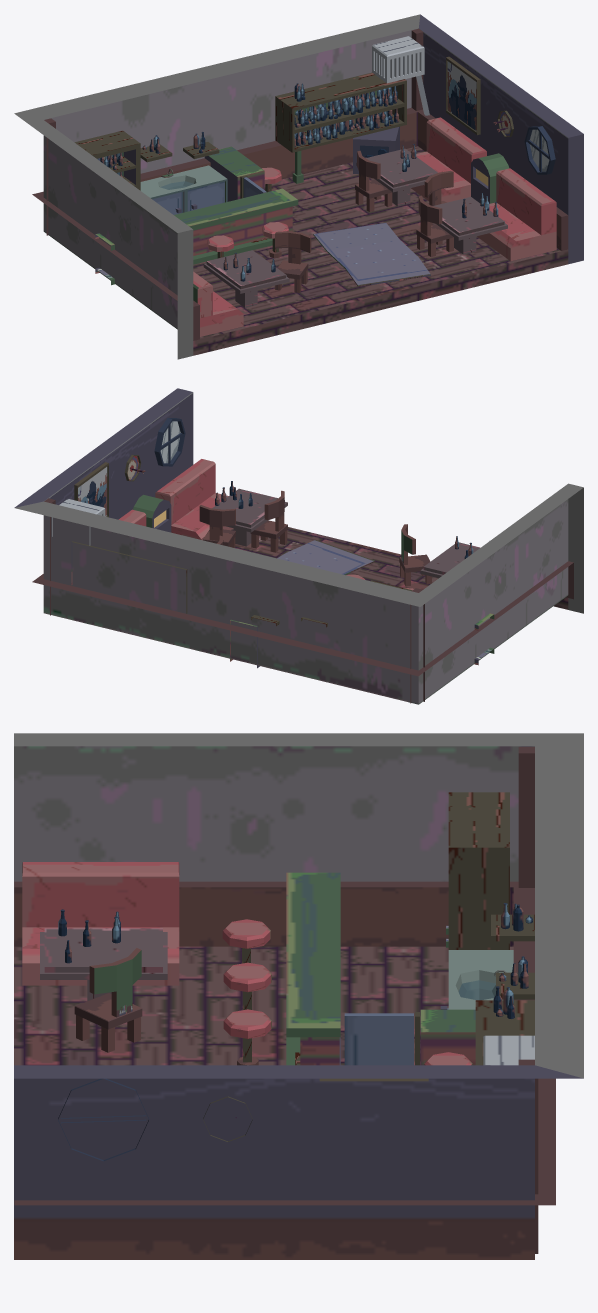
Rendered from Bar da Limey.v2..1118.fbx.
The picture shows the model from 3 angles, top to bottom: view 1: azimuth 30°, elevation 25°; view 2: azimuth 150°, elevation 25°; view 3: azimuth 270°, elevation 25°; orthographic projection. The views are drawn at different scales.
Parts seen in each view (by area): view 1: Chao_Paredes, Beiradas, Estante1, Balcao, Garrafas, Sofa1.001, Tapete, Sofa1.002, Pia, Mesa1, Ar_Condicionado, Mesa1.001 (+13 smaller); view 2: Chao_Paredes, Beiradas, Sofa1.001, Tapete, Mesa1.001, Cadeira1.001, Janela, Quadro, Cadeira1.003, Cadeira1, Junkebox, Mesa1 (+2 smaller); view 3: Chao_Paredes, Beiradas, Sofa1, Balcao, Estante2, Mesa1, Cadeira1, Balcao.002, Pia, Balcao.001, Garrafas, Estante1 (+5 smaller).
Boxes of the visible parts, x1,y1,x2,y2 form: Chao_Paredes: (14,14,583,359); Beiradas: (32,28,568,340); Estante1: (275,72,406,183); Balcao: (95,188,298,285); Garrafas: (97,83,498,281); Sofa1.001: (477,168,556,261); Tapete: (313,223,430,286); Sofa1.002: (411,117,486,202); Pia: (140,165,227,214); Mesa1: (203,250,289,307); Ar_Condicionado: (372,36,429,115); Mesa1.001: (433,197,507,254); Chao_Paredes: (14,388,583,704); Beiradas: (32,498,573,703); Sofa1.001: (155,459,233,540); Tapete: (277,539,374,574); Mesa1.001: (212,488,287,546); Cadeira1.001: (250,490,287,552); Janela: (154,418,185,466); Quadro: (74,462,108,517); Cadeira1.003: (199,505,235,547); Cadeira1: (399,524,431,586); Junkebox: (133,494,171,532); Mesa1: (420,542,480,578); Chao_Paredes: (14,733,583,1259); Beiradas: (14,747,555,1253); Sofa1: (22,862,179,985); Balcao: (286,872,340,1065); Estante2: (446,792,509,949); Mesa1: (40,928,167,1000); Cadeira1: (74,948,142,1052); Balcao.002: (344,1012,419,1065); Pia: (440,950,513,1009); Balcao.001: (420,1009,475,1065); Garrafas: (58,903,532,1018); Estante1: (475,1000,534,1065).
Bounding box in the file's own units: 1294 × 902 × 385.
Materials: 1 (1 with a texture image).
